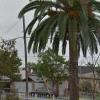Palm tree: (32, 4, 100, 91)
